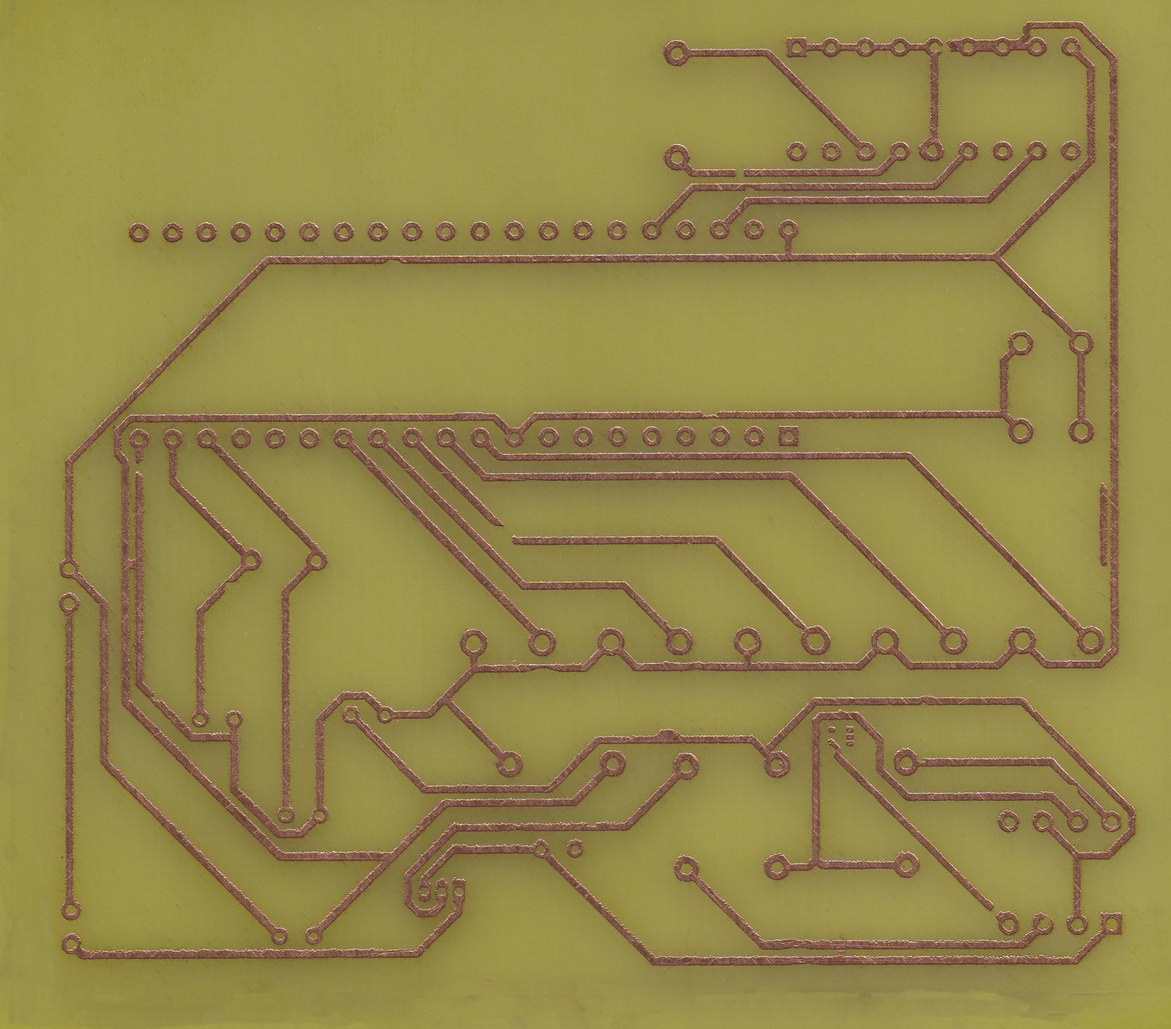missing_hole: (1030, 911, 1056, 936), (924, 36, 945, 58)
mouse_bite: (695, 406, 724, 422), (379, 254, 407, 269), (526, 663, 561, 673), (148, 687, 163, 706), (584, 818, 598, 834), (1067, 779, 1080, 796), (221, 579, 235, 593), (742, 182, 759, 193)
open_circuit: (491, 513, 519, 546), (729, 164, 752, 180), (937, 38, 955, 58), (985, 902, 1003, 920), (134, 458, 145, 479)
short: (119, 554, 145, 573)
spur: (653, 726, 685, 746)
spurious_copper: (1097, 480, 1110, 569)
